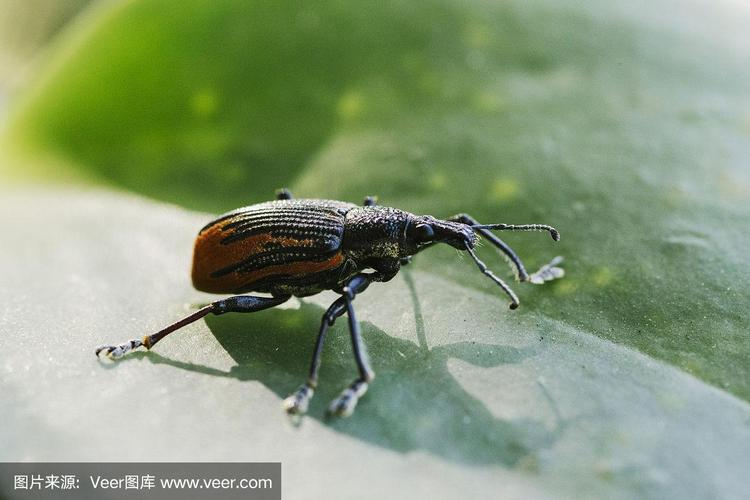Curculionidae: (92, 186, 566, 428)
